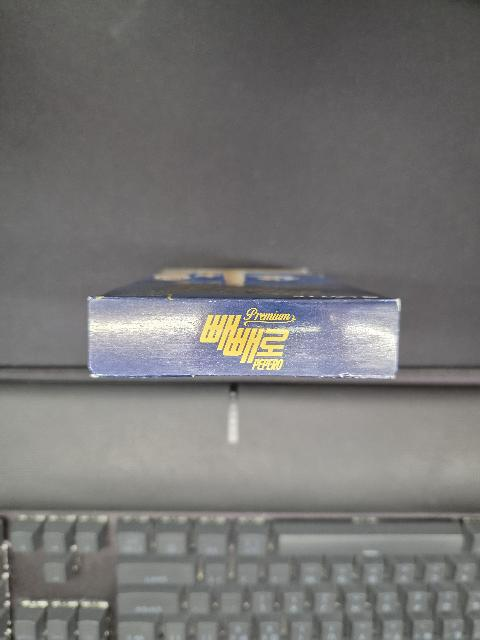pepero: (86, 267, 401, 379)
